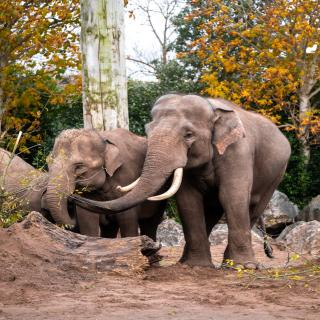Elephant: (77, 93, 295, 275), (44, 124, 172, 247)
